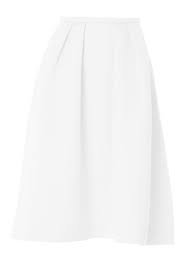C_skirt: (7, 15, 182, 249)
